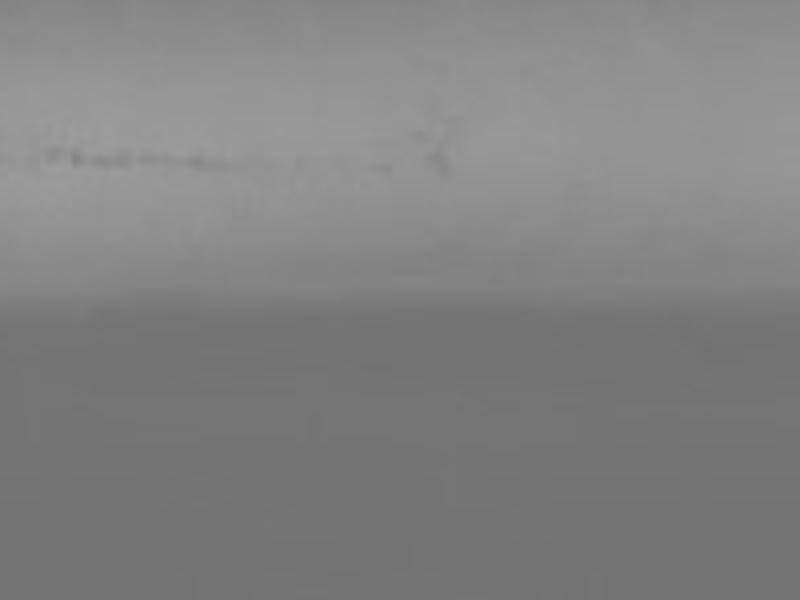defect: (426, 145, 458, 182), (108, 145, 134, 174), (137, 151, 177, 169), (37, 146, 64, 168), (181, 152, 209, 171), (409, 121, 432, 144), (86, 153, 114, 171), (63, 144, 82, 169), (376, 157, 396, 179)
